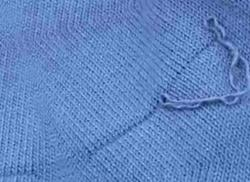snag: (145, 89, 198, 115)
